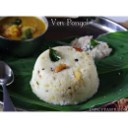venpongal: (31, 46, 98, 102)
